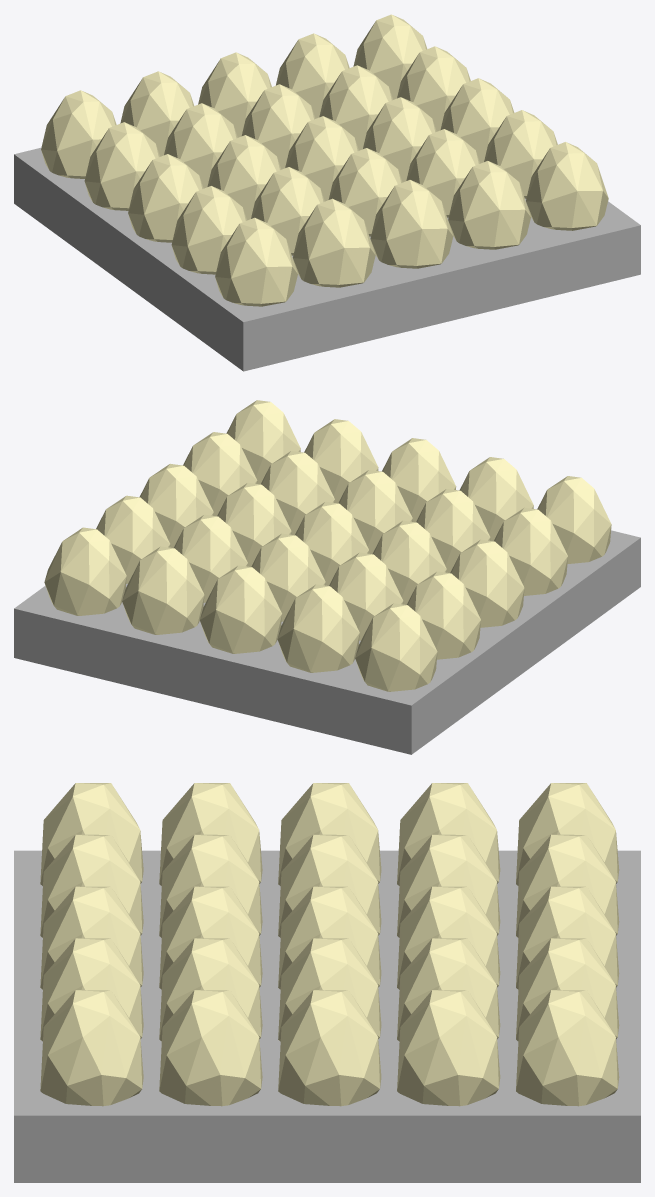
The model's file is egg tray2.fbx.
The picture shows the model from 3 angles, top to bottom: view 1: azimuth 30°, elevation 25°; view 2: azimuth 150°, elevation 25°; view 3: azimuth 270°, elevation 25°; orthographic projection. The views are drawn at different scales.
Visible parts, largest first — view 1: 239_Uncracked Egg.000, Cube; view 2: 239_Uncracked Egg.000, Cube; view 3: 239_Uncracked Egg.000, Cube.
Boxes of the visible parts, box(x1,y1,x2,y2) form: 239_Uncracked Egg.000: box(41, 14, 608, 306); Cube: box(14, 147, 640, 371); 239_Uncracked Egg.000: box(44, 400, 611, 691); Cube: box(14, 530, 640, 754); 239_Uncracked Egg.000: box(40, 783, 619, 1106); Cube: box(14, 850, 640, 1182).
Bounding box in the file's own units: 506 × 145 × 506.
